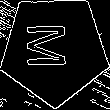M_E: (30, 26, 79, 73)
